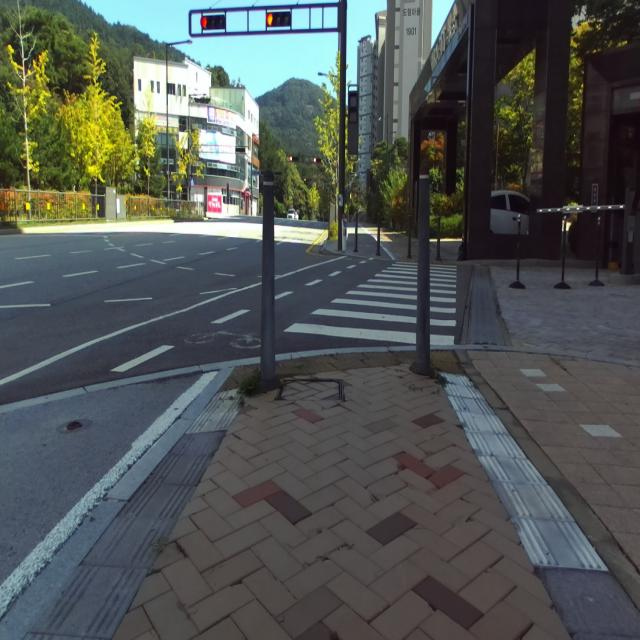횡단보도: (284, 262, 457, 345)
